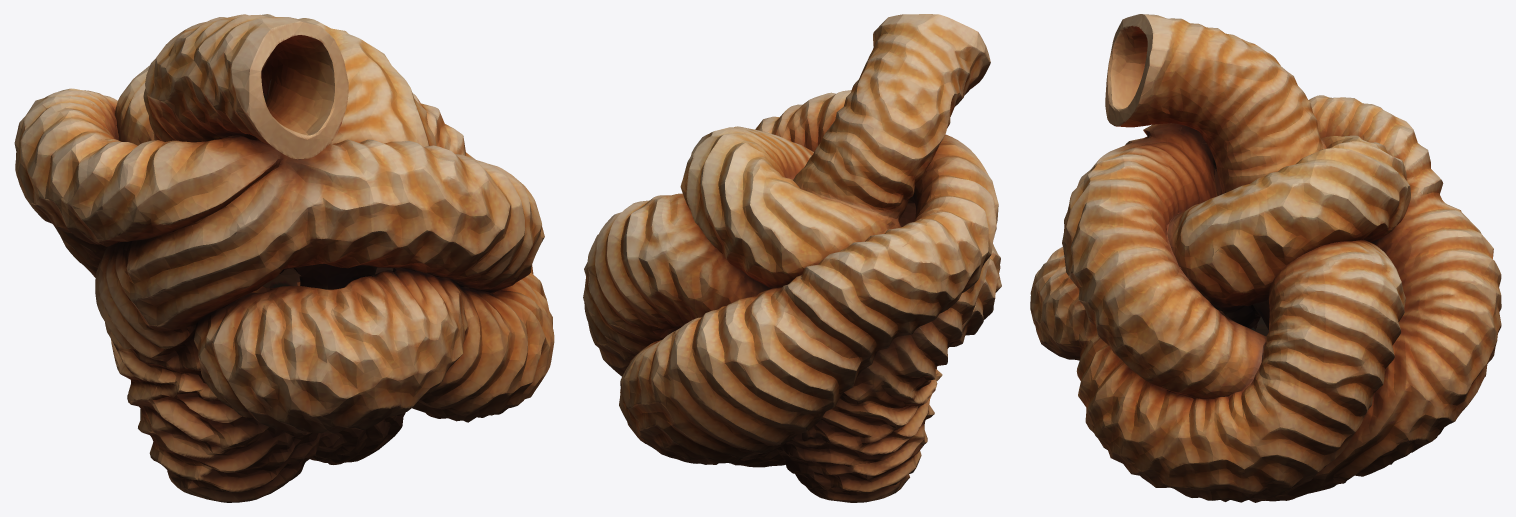
The picture shows the model from 3 angles, left to right: view 1: azimuth 30°, elevation 25°; view 2: azimuth 150°, elevation 25°; view 3: azimuth 270°, elevation 25°; orthographic projection. The views are drawn at different scales.
Parts seen in each view (by area): view 1: world; view 2: world; view 3: world.
Part boxes in pixels (<box>): world: <box>14,14,554,502</box>; world: <box>583,14,1001,502</box>; world: <box>1030,14,1501,502</box>.
Size of the model in its own units: 0.131 by 0.1389 by 0.139.
1 material, 1 textured.
